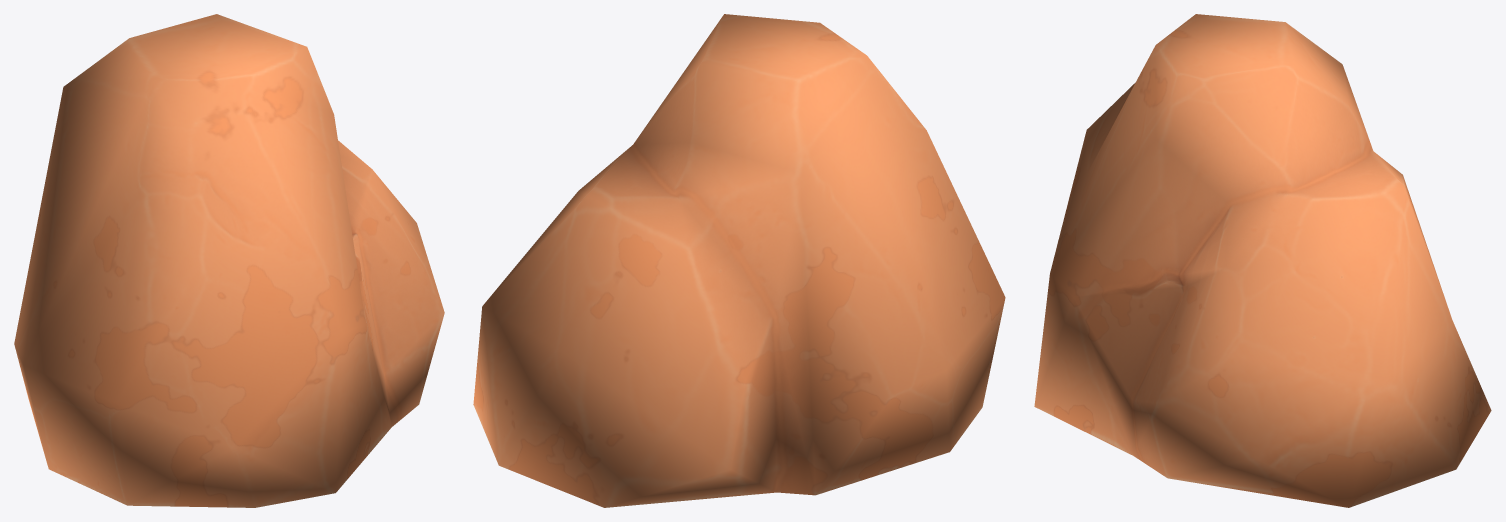
Rendered from Rock_5.fbx.
The picture shows the model from 3 angles, left to right: view 1: azimuth 30°, elevation 25°; view 2: azimuth 150°, elevation 25°; view 3: azimuth 270°, elevation 25°; orthographic projection. The views are drawn at different scales.
Parts seen in each view (by area): view 1: Rock_5; view 2: Rock_5; view 3: Rock_5.
Part boxes in pixels (x1,y1,x2,y2): Rock_5: [14, 14, 444, 507]; Rock_5: [473, 14, 1005, 507]; Rock_5: [1034, 14, 1491, 507].
Bounding box in the file's own units: 239 × 203 × 239.
Materials: 1 (1 with a texture image).
